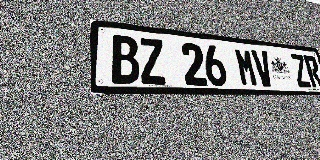2: (180, 42, 208, 85)
6: (202, 44, 228, 86)
B: (110, 34, 141, 84)
M: (234, 48, 259, 86)
R: (303, 55, 320, 88)
V: (251, 49, 275, 87)
Z: (138, 37, 167, 85), (289, 53, 312, 88)
